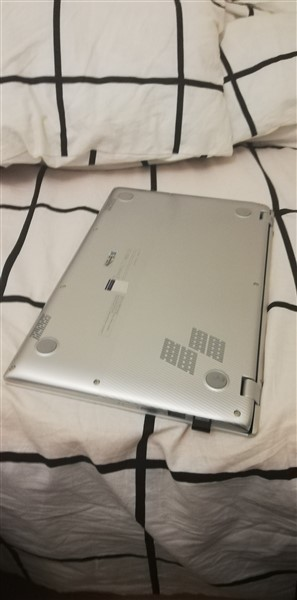laptop: (11, 177, 269, 437)
